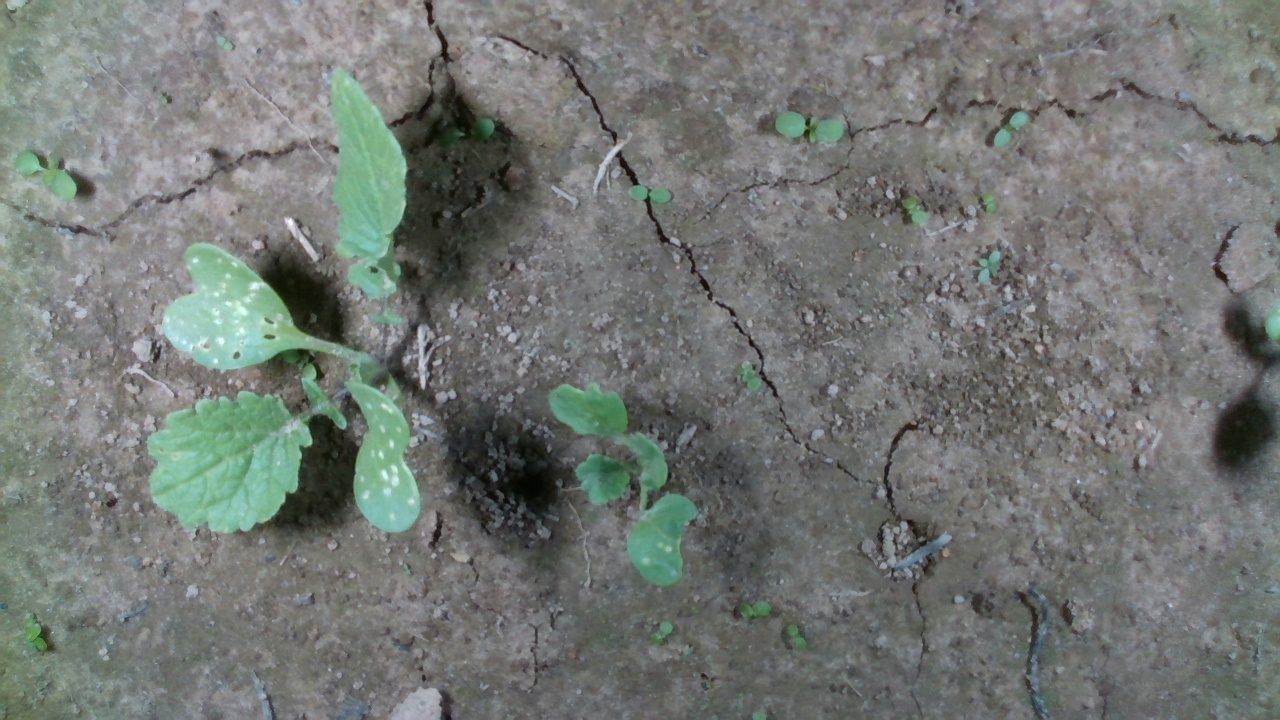weed: (773, 108, 845, 145), (436, 116, 496, 145), (989, 110, 1031, 149), (625, 182, 674, 204), (974, 249, 1004, 284), (899, 195, 929, 226), (732, 599, 772, 622), (736, 362, 763, 391), (784, 620, 807, 653), (650, 619, 675, 645), (214, 33, 235, 53)
